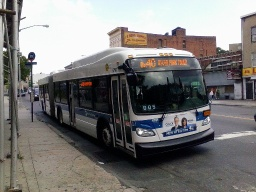bus: (36, 47, 216, 156)
